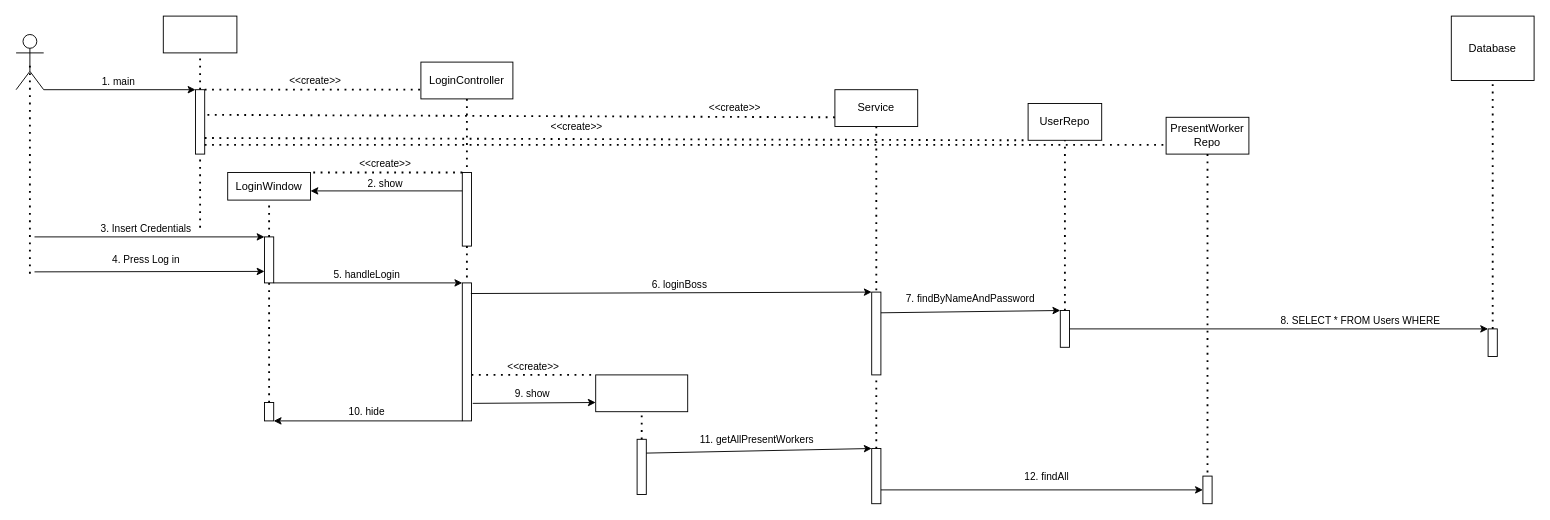
This 1550x520 diagram has some shape labels left out. The shapes that lost their labels are listed below. From the top down, each one's box as (x1, y1, x2, y2) in pixels, then its label:
(162, 15, 237, 53): <<Boundary>> Main
(15, 34, 44, 90): Actor
(595, 374, 688, 412): BossWindow
